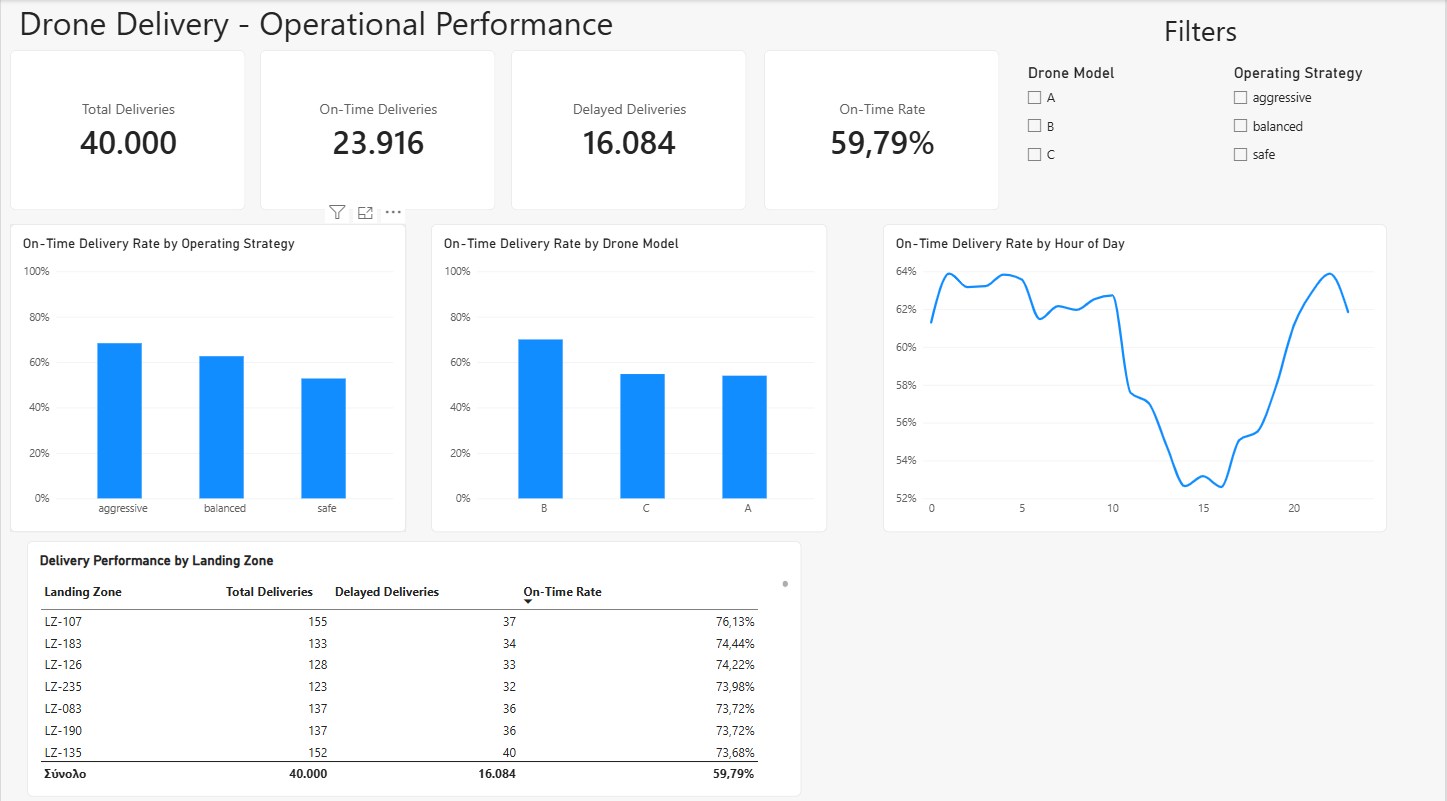

What the dashboard file says about the page in this screenshot:
{"tool":"powerbi","page":{"name":"Σελίδα 1","canvas":[1920,1080],"ordinal":0},"visuals":[{"type":"cardVisual","fields":{"Data":["Deliveries.Total Deliveries"]},"box":[11.7,67.1,313.7,213],"z":0},{"type":"cardVisual","fields":{"Data":["Deliveries.On-Time Deliveries"]},"box":[344.3,67.1,313.7,213],"z":1},{"type":"cardVisual","fields":{"Data":["Deliveries.Delayed Deliveries"]},"box":[678.4,67.1,313.7,213],"z":2},{"type":"cardVisual","fields":{"Data":["Deliveries.On-Time Rate"]},"box":[1015.4,67.1,313.7,213],"z":3},{"type":"clusteredColumnChart","title":"On-Time Delivery Rate by Drone Model","fields":{"Category":["Deliveries.drone_model"],"Y":["Deliveries.On-Time Rate"]},"box":[571.9,297.6,526.7,410],"z":4},{"type":"lineChart","title":"On-Time Delivery Rate by Hour of Day","fields":{"Category":["Deliveries.hour"],"Y":["Deliveries.On-Time Rate"]},"box":[1173,297.6,669.7,410],"z":5},{"type":"clusteredColumnChart","title":"On-Time Delivery Rate by Operating Strategy","fields":{"Category":["Deliveries.operator_tag"],"Y":["Deliveries.On-Time Rate"]},"box":[11.7,297.6,526.7,410],"z":6},{"type":"slicer","fields":{"Values":["Deliveries.drone_model"]},"box":[1358.3,84.6,223.2,156.1],"z":7},{"type":"slicer","fields":{"Values":["Deliveries.operator_tag"]},"box":[1632.6,84.6,230.5,141.5],"z":8},{"type":"tableEx","title":"Delivery Performance by Landing Zone","fields":{"Values":["Deliveries.landing_zone","Deliveries.Total Deliveries","Deliveries.Delayed Deliveries","Deliveries.On-Time Rate"]},"box":[35,719.3,1030,339.9],"z":9},{"type":"textbox","box":[23.3,0,812.6,71.5],"z":10},{"type":"textbox","box":[1546.5,14.6,105,52.5],"z":14}]}

Visuals, with their boxes in screenshot pixels (x1, y1, x2, y2), scaled from the page's 1920x1080 canvas onto the 1447x801 screenshot:
cardVisual - Deliveries.Total Deliveries: <bbox>9, 50, 245, 208</bbox>
cardVisual - Deliveries.On-Time Deliveries: <bbox>259, 50, 496, 208</bbox>
cardVisual - Deliveries.Delayed Deliveries: <bbox>511, 50, 748, 208</bbox>
cardVisual - Deliveries.On-Time Rate: <bbox>765, 50, 1002, 208</bbox>
"On-Time Delivery Rate by Drone Model" clusteredColumnChart: <bbox>431, 221, 828, 525</bbox>
"On-Time Delivery Rate by Hour of Day" lineChart: <bbox>884, 221, 1389, 525</bbox>
"On-Time Delivery Rate by Operating Strategy" clusteredColumnChart: <bbox>9, 221, 406, 525</bbox>
slicer - Deliveries.drone_model: <bbox>1024, 63, 1192, 179</bbox>
slicer - Deliveries.operator_tag: <bbox>1230, 63, 1404, 168</bbox>
"Delivery Performance by Landing Zone" tableEx: <bbox>26, 533, 803, 786</bbox>
textbox: <bbox>18, 0, 630, 53</bbox>
textbox: <bbox>1166, 11, 1245, 50</bbox>
